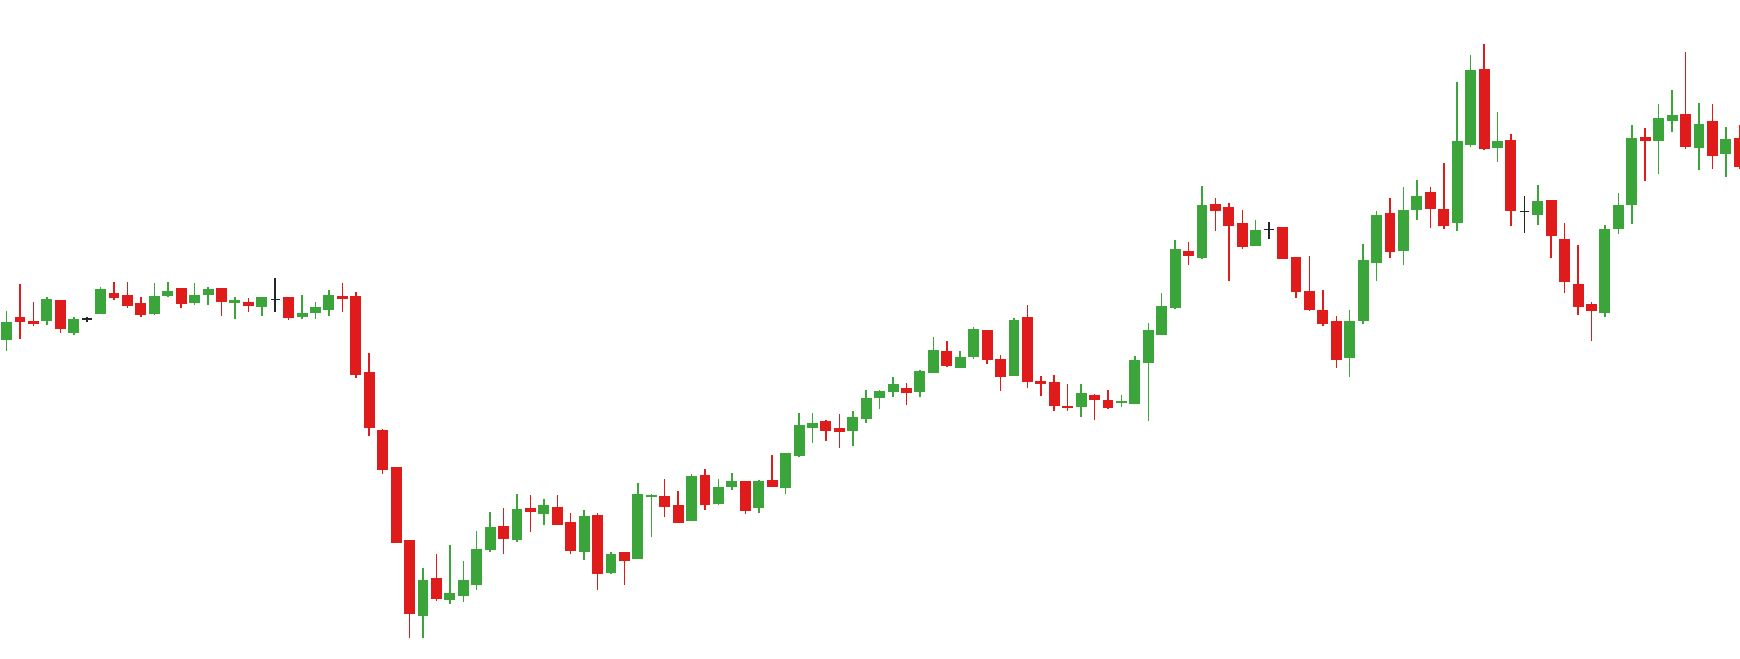buy: (484, 513, 591, 568)
